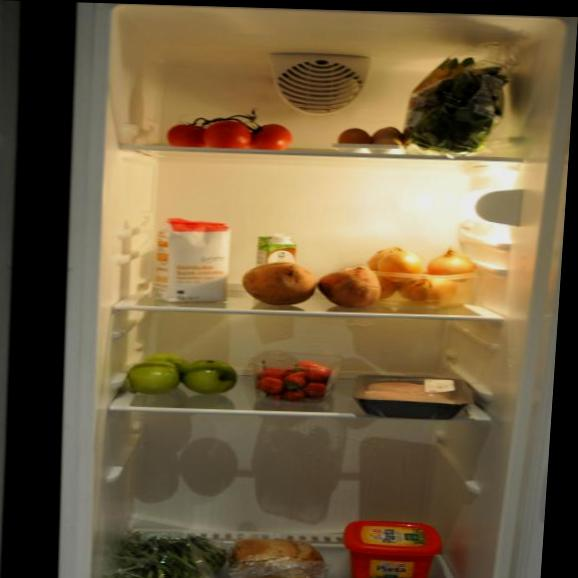apple: (124, 352, 238, 399)
bread: (231, 534, 332, 578)
butter: (337, 519, 449, 578)
chicken_breast: (357, 379, 463, 405)
eggs: (333, 126, 410, 150)
green_beans: (109, 526, 233, 578)
heavy_cream: (256, 234, 298, 290)
onion: (367, 246, 478, 306)
spinach: (408, 50, 504, 161)
strawberries: (253, 359, 334, 405)
sugar: (156, 218, 234, 305)
sweet_potato: (239, 262, 383, 312)
tomato: (164, 116, 302, 155)
